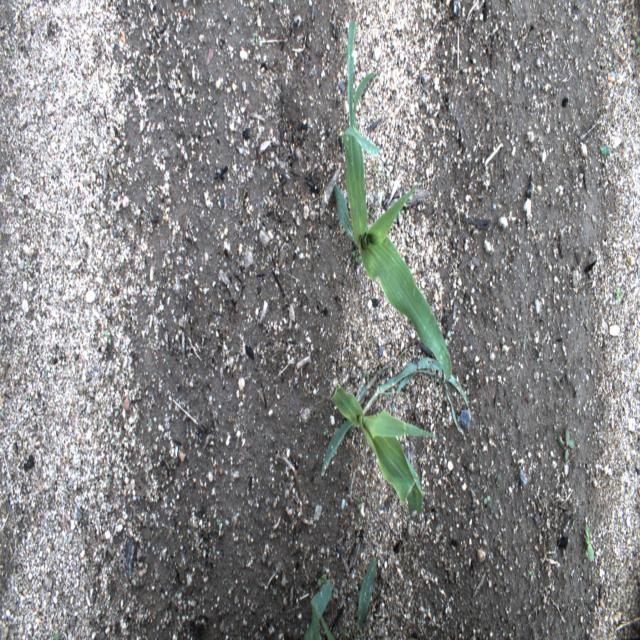crop: (322, 16, 473, 476), (330, 383, 433, 516), (308, 572, 338, 639), (356, 551, 377, 627)
weed: (556, 430, 578, 462), (584, 521, 594, 563), (102, 328, 110, 346), (614, 285, 622, 303), (527, 569, 535, 585), (356, 496, 362, 514), (600, 146, 609, 156), (484, 496, 491, 506)
